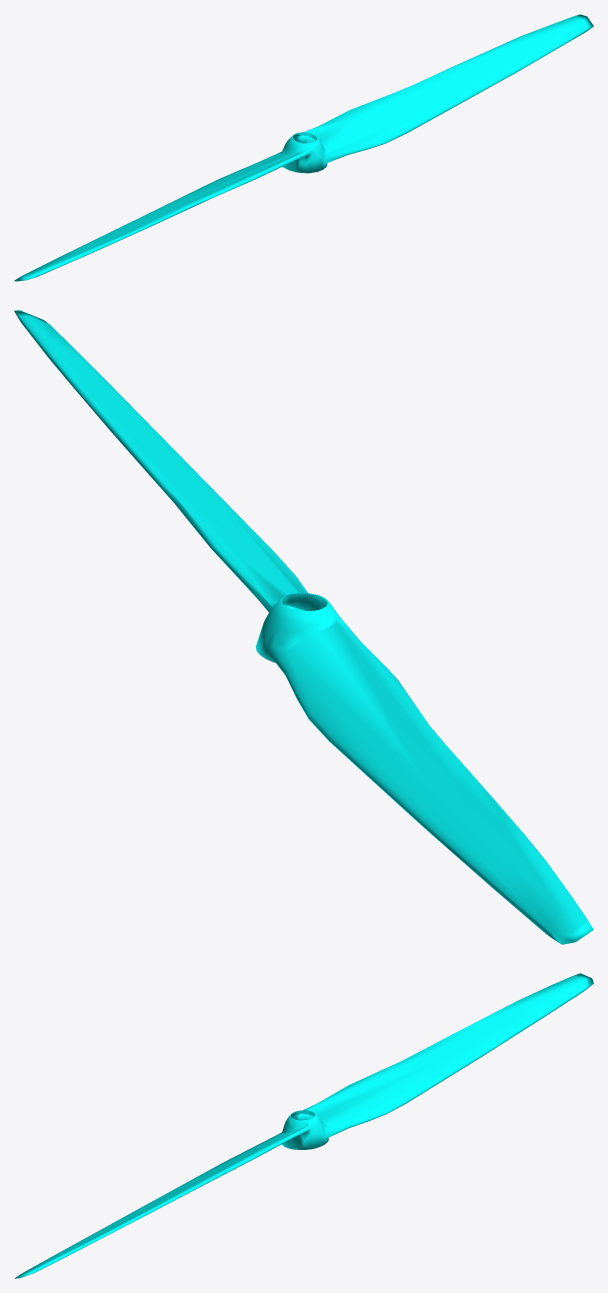
Rendered from drone_propeller2.obj.
3 renders of one model, top to bottom at view 1: azimuth 90°, elevation 25°; view 2: azimuth 150°, elevation 25°; view 3: azimuth 270°, elevation 25°, orthographic. The views are drawn at different scales.
Visible parts, largest first — view 1: main_motor_prop1_polySurface6; view 2: main_motor_prop1_polySurface6; view 3: main_motor_prop1_polySurface6.
Boxes of the visible parts, x1,y1,x2,y2 form: main_motor_prop1_polySurface6: (14,14,593,281); main_motor_prop1_polySurface6: (14,310,593,944); main_motor_prop1_polySurface6: (14,973,593,1278).
Size of the model in its own units: 13.66 by 0.6613 by 11.77.
